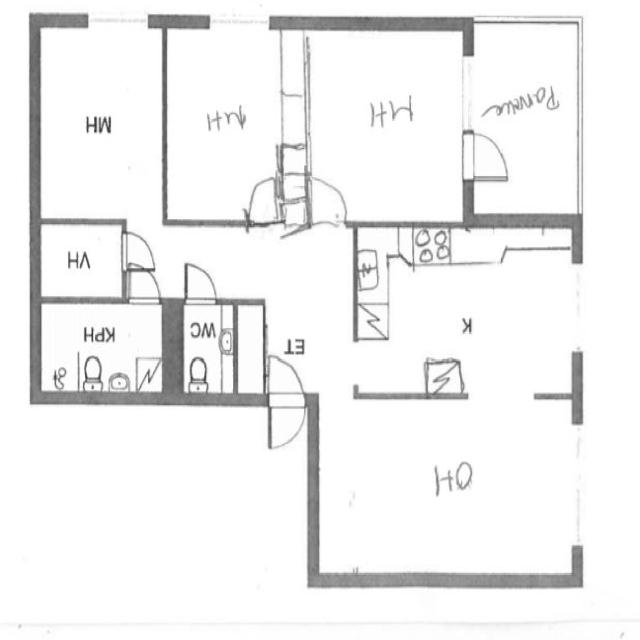door: (260, 350, 309, 454), (457, 120, 516, 192), (239, 170, 282, 228), (308, 174, 351, 228), (116, 227, 160, 276), (179, 257, 222, 307), (124, 259, 164, 308)
window: (564, 414, 592, 554), (563, 252, 593, 368), (83, 6, 154, 35), (203, 7, 275, 35), (456, 48, 478, 135)
zone: (315, 393, 578, 582), (355, 224, 582, 398), (296, 24, 469, 222), (34, 19, 168, 223), (163, 23, 291, 224), (469, 19, 578, 229), (32, 298, 169, 400), (34, 219, 127, 301), (178, 300, 234, 401)
